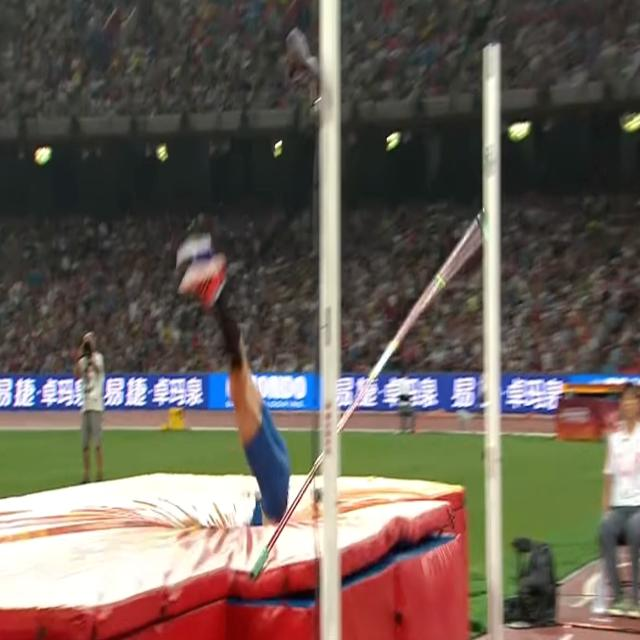land: (177, 232, 293, 525)
